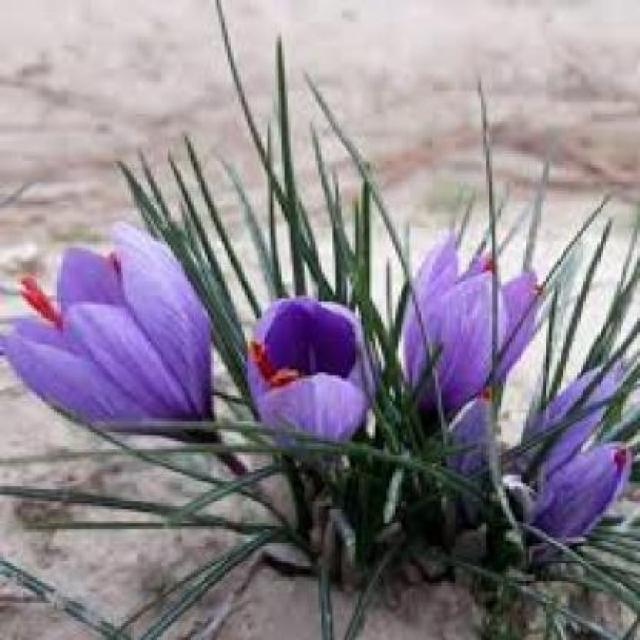Flower: (2, 229, 230, 453), (487, 356, 625, 564), (406, 232, 540, 434), (238, 292, 378, 463)
stigma: (18, 270, 64, 332), (250, 334, 286, 383)
